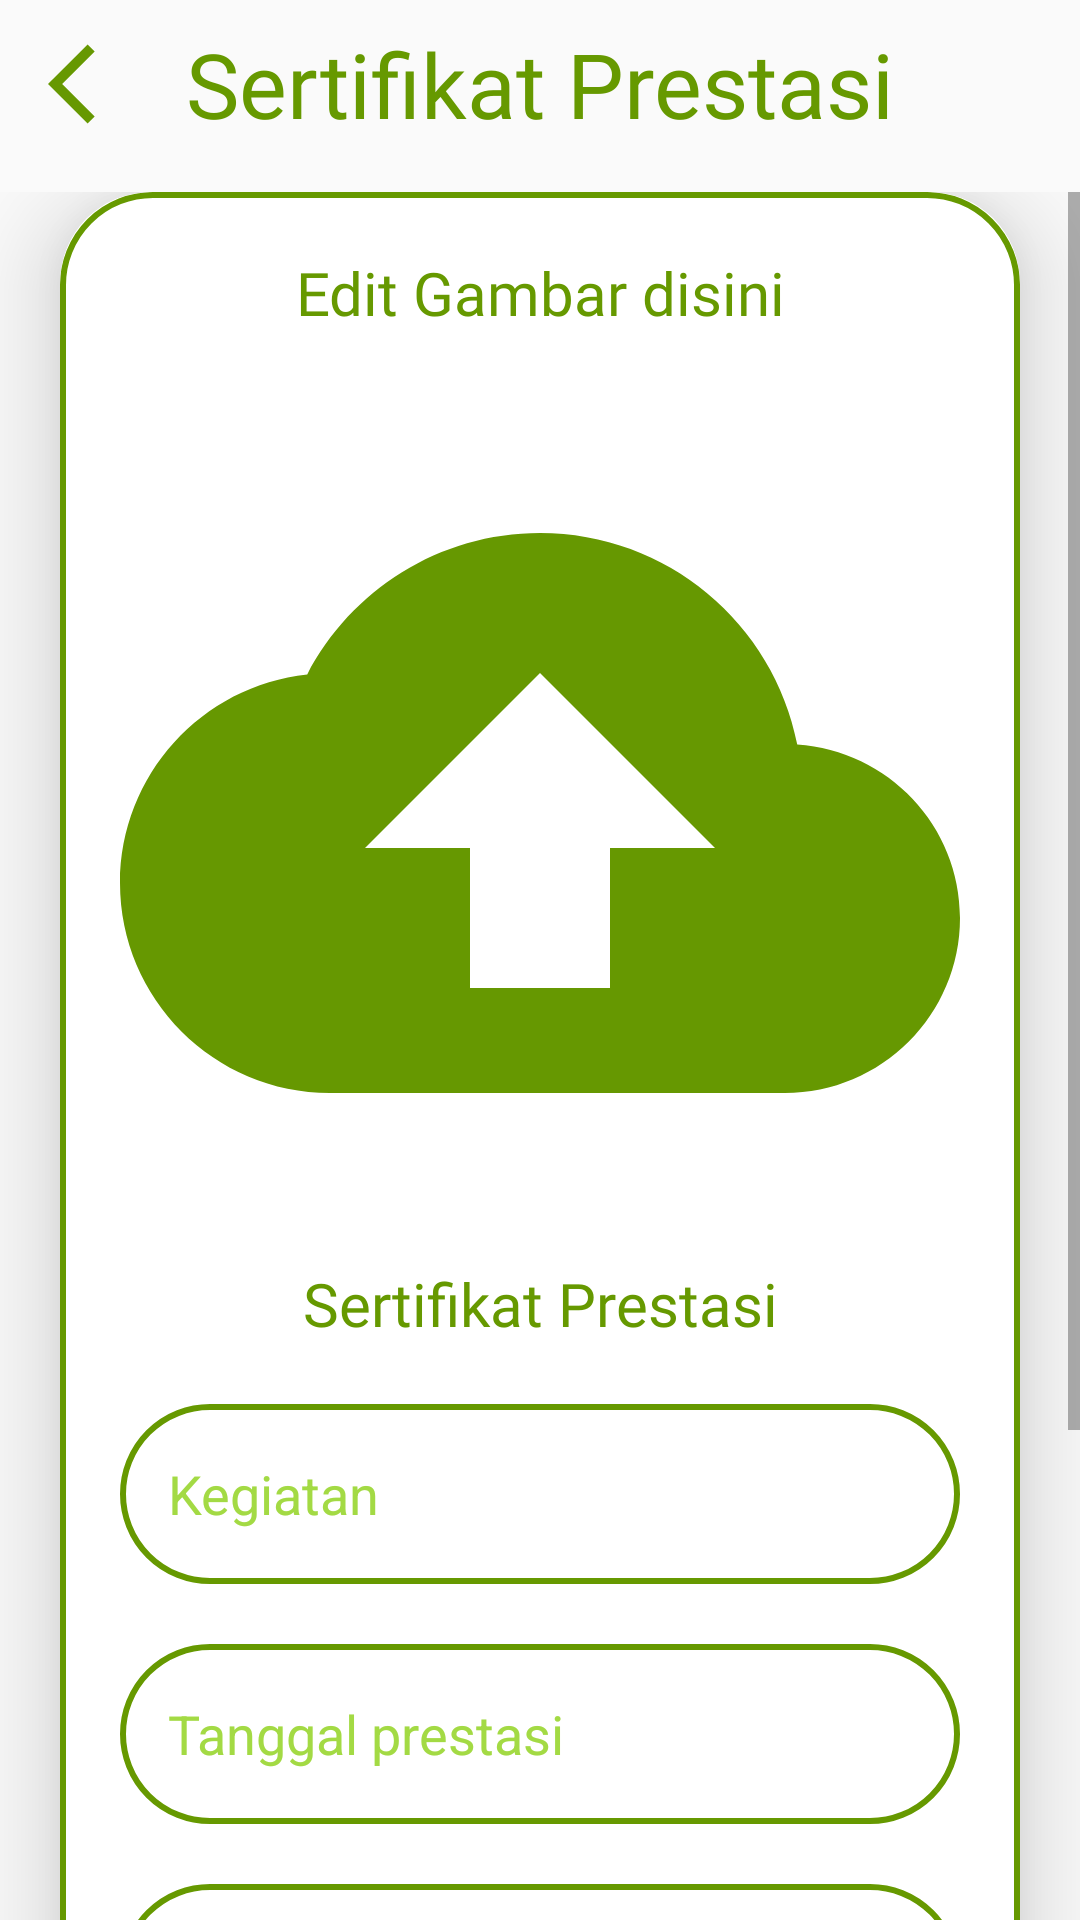

Icons on this 1080×1920 Android screen, each with its box as (x1, y1, x2, y2):
backicon: (48, 44, 95, 124)
